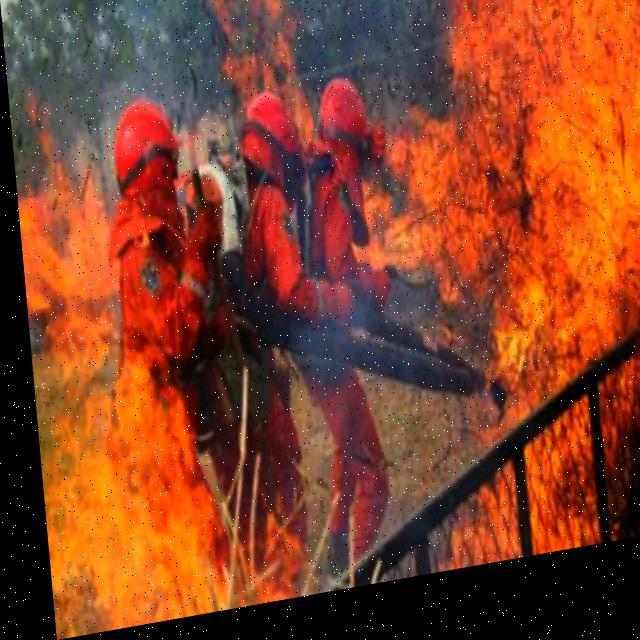Fire: (11, 112, 240, 638)
